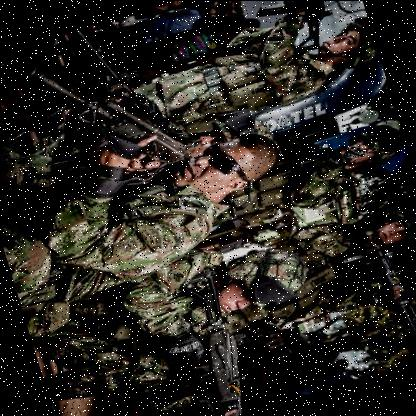rifle: (0, 36, 197, 215), (114, 264, 276, 416), (55, 8, 187, 157), (314, 214, 416, 377), (244, 0, 359, 67), (292, 137, 371, 182)
